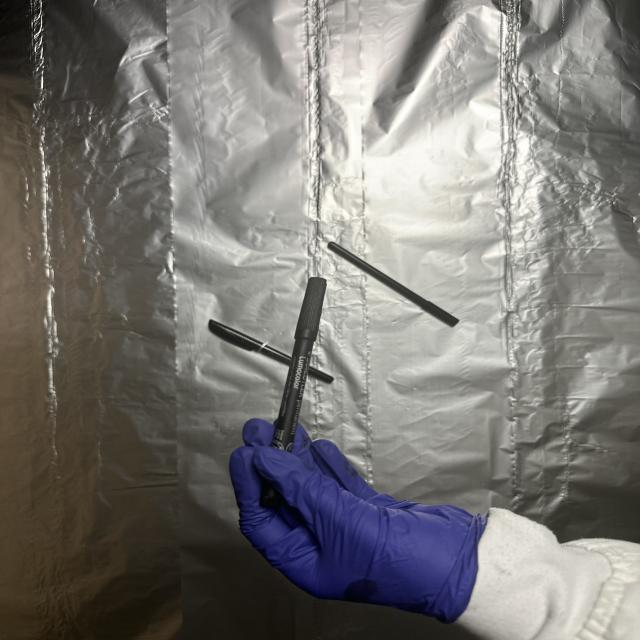gloves_contaminated: (229, 418, 486, 622)
